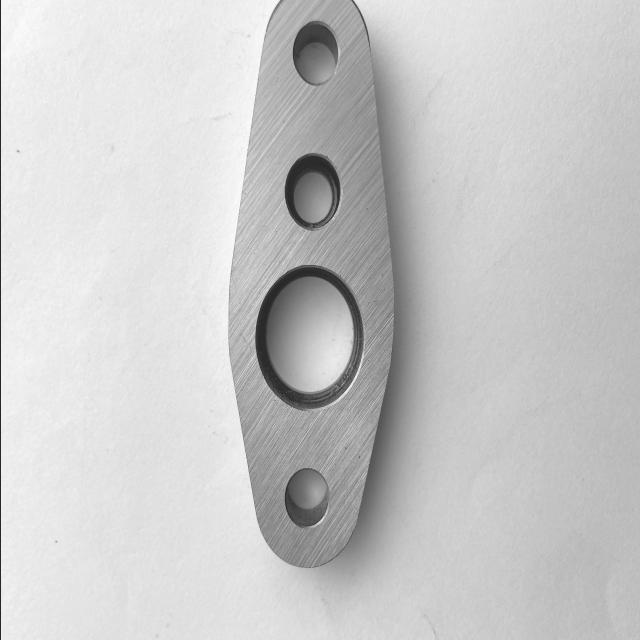lines: (238, 334, 252, 349)
